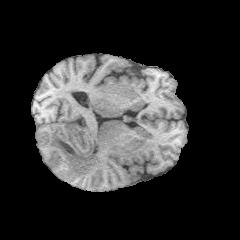glioma: (49, 128, 100, 179)
